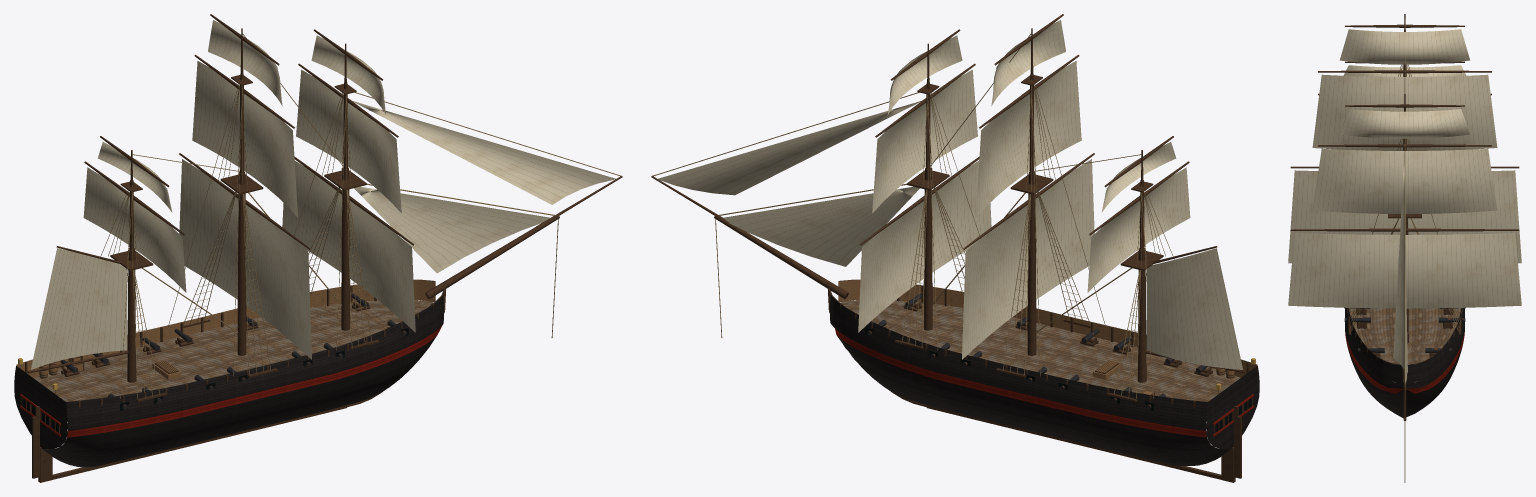
File: SM_Art_DravenRaider.gltf
The picture shows the model from 3 angles, left to right: view 1: azimuth 30°, elevation 25°; view 2: azimuth 150°, elevation 25°; view 3: azimuth 270°, elevation 25°; orthographic projection. The views are drawn at different scales.
Parts seen in each view (by area): view 1: SM_Art_DravenRaider; view 2: SM_Art_DravenRaider; view 3: SM_Art_DravenRaider.
Boxes of the visible parts, left/top/right/bottom form: SM_Art_DravenRaider: left=14, top=14, right=622, bottom=482; SM_Art_DravenRaider: left=651, top=14, right=1259, bottom=482; SM_Art_DravenRaider: left=1288, top=14, right=1521, bottom=482.
Size of the model in its own units: 45.86 by 29.81 by 17.88.
Materials: 10 (8 with a texture image).
